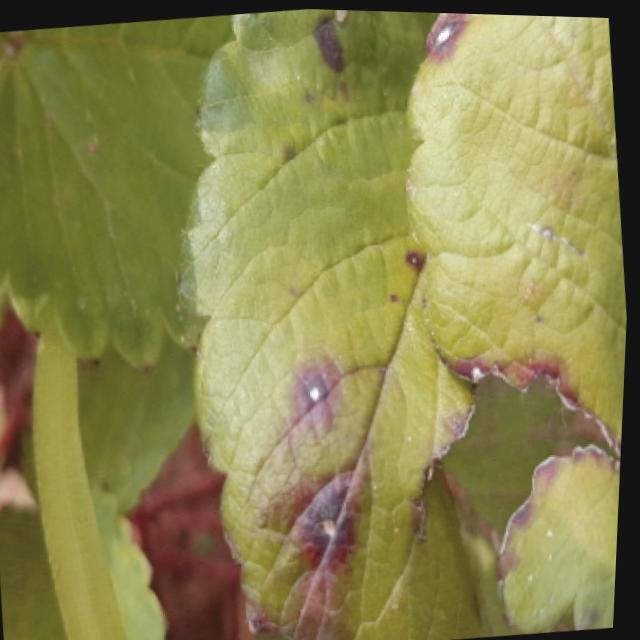Leaf Spot: (177, 7, 496, 640), (405, 10, 629, 631)
